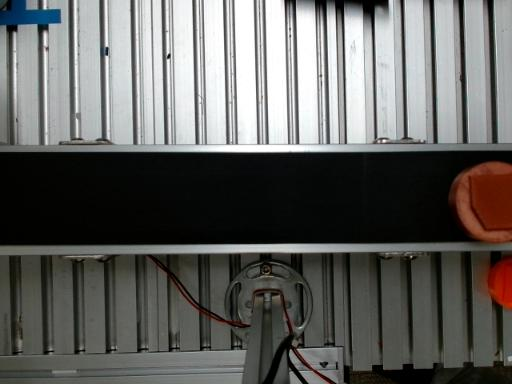Brown_Waper: (450, 162, 511, 242)
